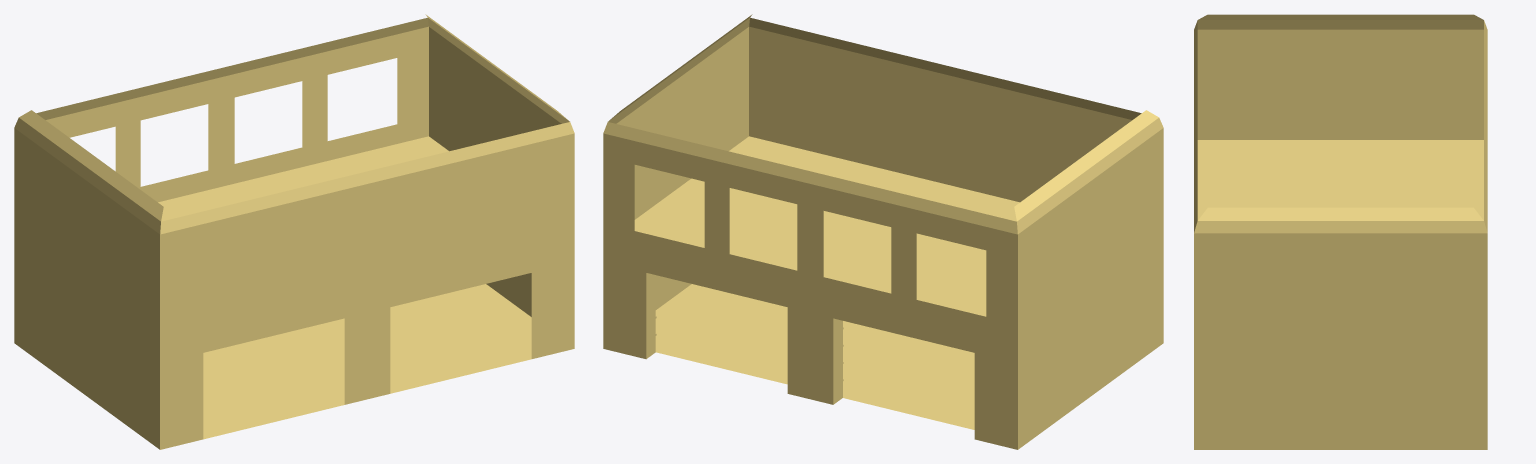
File: Bld_C_low_L5_B.fbx
3 renders of one model, left to right at view 1: azimuth 30°, elevation 25°; view 2: azimuth 150°, elevation 25°; view 3: azimuth 270°, elevation 25°, orthographic.
Parts seen in each view (by area): view 1: Bld_C_low_L5_B_LOD0; view 2: Bld_C_low_L5_B_LOD0; view 3: Bld_C_low_L5_B_LOD0.
Part boxes in pixels (x1,y1,x2,y2): Bld_C_low_L5_B_LOD0: [14, 14, 574, 449]; Bld_C_low_L5_B_LOD0: [603, 14, 1163, 449]; Bld_C_low_L5_B_LOD0: [1194, 14, 1487, 449].
Size of what is drawn, in the model's own units: 2114 by 1259 by 1435.
Materials: 1 (1 with a texture image).
